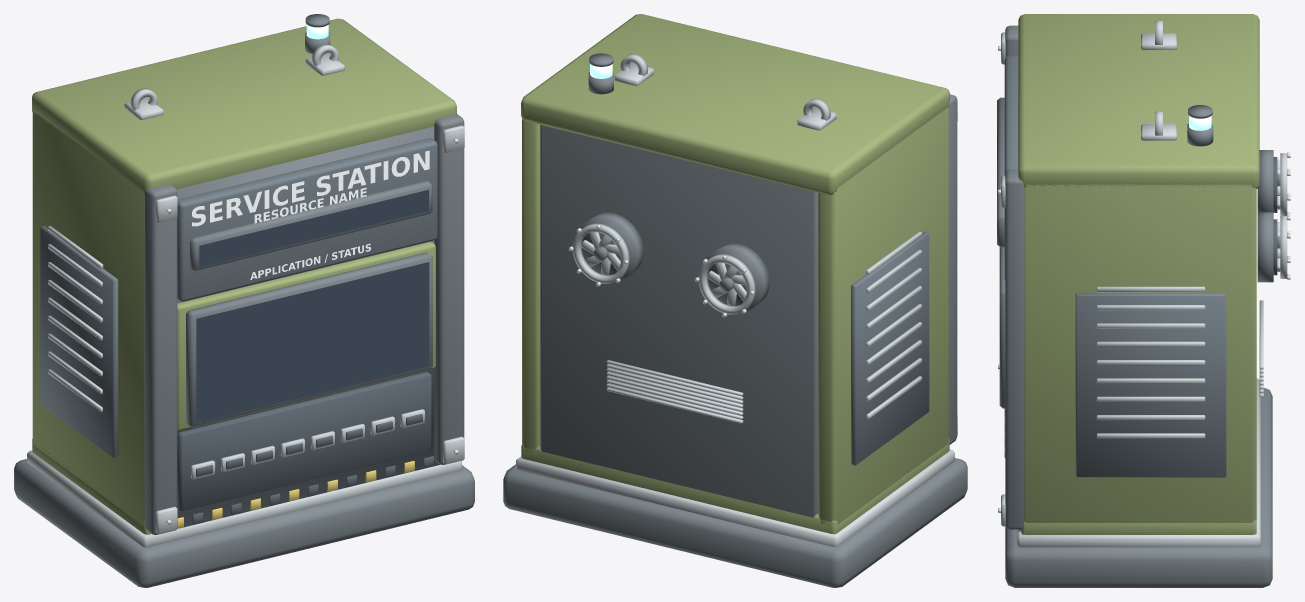
File: service_station_ultra.glb
3 renders of one model, left to right at view 1: azimuth 30°, elevation 25°; view 2: azimuth 150°, elevation 25°; view 3: azimuth 270°, elevation 25°, orthographic. The views are drawn at different scales.
Parts seen in each view (by area): view 1: Roof_olive, LiveViewSurface_glass, SideWall_olive, CornerPost_frame, Skid_frame, PatchPanel_black, FrontHeader_graphite, SideServicePanel_graphite, SealFront_frame, SkidDeck_steel, LiveViewSurfaceFrame_frame, ResourceNameSurface_glass (+14 smaller); view 2: BackWall_frame, Roof_olive, SideWall_olive, Skid_frame, SideServicePanel_graphite, SkidDeck_steel, KickPlate_olive, RearFan_steel, RearVent_steel, CornerPost_frame, SideLouver_steel, RearFan_frame (+3 smaller); view 3: SideWall_olive, Roof_olive, SideServicePanel_graphite, Skid_frame, CornerPost_frame, SideLouver_steel, SkidDeck_steel, KickPlate_olive, RearFan_frame, FrontHeader_graphite, RearFan_steel, LiveViewSurfaceFrame_frame (+7 smaller).
Boxes of the visible parts, bbox=[...] form: Roof_olive: bbox=[32, 18, 456, 194]; LiveViewSurface_glass: bbox=[196, 262, 429, 422]; SideWall_olive: bbox=[32, 111, 144, 524]; CornerPost_frame: bbox=[144, 114, 464, 534]; Skid_frame: bbox=[14, 459, 474, 587]; PatchPanel_black: bbox=[177, 372, 431, 511]; FrontHeader_graphite: bbox=[177, 138, 437, 301]; SideServicePanel_graphite: bbox=[40, 226, 118, 457]; SealFront_frame: bbox=[176, 126, 439, 527]; SkidDeck_steel: bbox=[27, 450, 461, 547]; LiveViewSurfaceFrame_frame: bbox=[186, 252, 432, 427]; ResourceNameSurface_glass: bbox=[199, 189, 428, 266]; BackWall_frame: bbox=[540, 125, 818, 517]; Roof_olive: bbox=[521, 14, 949, 195]; SideWall_olive: bbox=[522, 107, 948, 525]; Skid_frame: bbox=[503, 458, 967, 587]; SideServicePanel_graphite: bbox=[851, 231, 929, 465]; SkidDeck_steel: bbox=[516, 449, 954, 547]; KickPlate_olive: bbox=[521, 438, 949, 534]; RearFan_steel: bbox=[572, 223, 755, 314]; RearVent_steel: bbox=[606, 360, 743, 423]; CornerPost_frame: bbox=[948, 94, 957, 444]; SideLouver_steel: bbox=[866, 231, 921, 419]; RearFan_frame: bbox=[580, 212, 769, 312]; SideWall_olive: bbox=[1024, 184, 1256, 525]; Roof_olive: bbox=[1018, 14, 1259, 188]; SideServicePanel_graphite: bbox=[1075, 293, 1226, 477]; Skid_frame: bbox=[1005, 388, 1272, 587]; CornerPost_frame: bbox=[1005, 25, 1024, 529]; SideLouver_steel: bbox=[1096, 286, 1205, 438]; SkidDeck_steel: bbox=[1017, 378, 1260, 547]; KickPlate_olive: bbox=[1021, 520, 1256, 534]; RearFan_frame: bbox=[1257, 150, 1273, 282]; FrontHeader_graphite: bbox=[1004, 56, 1018, 280]; RearFan_steel: bbox=[1277, 153, 1287, 278]; LiveViewSurfaceFrame_frame: bbox=[999, 247, 1005, 408].
Bounding box in the file's own units: 2 × 2.48 × 1.47.
